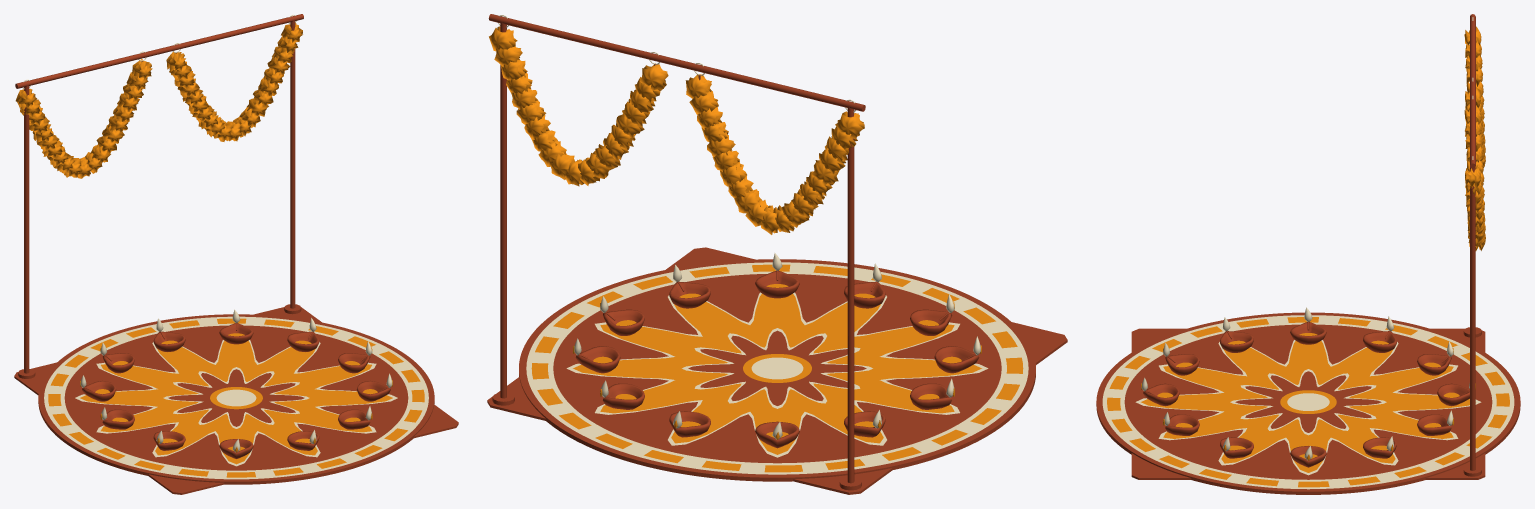
3 views of the same model, side by side, from view 1: azimuth 30°, elevation 25°; view 2: azimuth 150°, elevation 25°; view 3: azimuth 270°, elevation 25° (orthographic). The views are drawn at different scales.
Parts seen in each view (by area): view 1: DELIVERY_Clay, DELIVERY_Marigold, DELIVERY_Ivory; view 2: DELIVERY_Clay, DELIVERY_Marigold, DELIVERY_Ivory; view 3: DELIVERY_Clay, DELIVERY_Marigold, DELIVERY_Ivory.
Boxes of the visible parts, x1,y1,x2,y2 form: DELIVERY_Clay: (14,14,458,494); DELIVERY_Marigold: (15,23,424,477); DELIVERY_Ivory: (23,14,428,479); DELIVERY_Clay: (487,14,1067,494); DELIVERY_Marigold: (489,26,1023,472); DELIVERY_Ivory: (498,15,1028,474); DELIVERY_Clay: (1096,14,1520,494); DELIVERY_Marigold: (1107,26,1509,487); DELIVERY_Ivory: (1102,17,1514,489).
Bounding box in the file's own units: 2.4 × 1.99 × 2.4.
